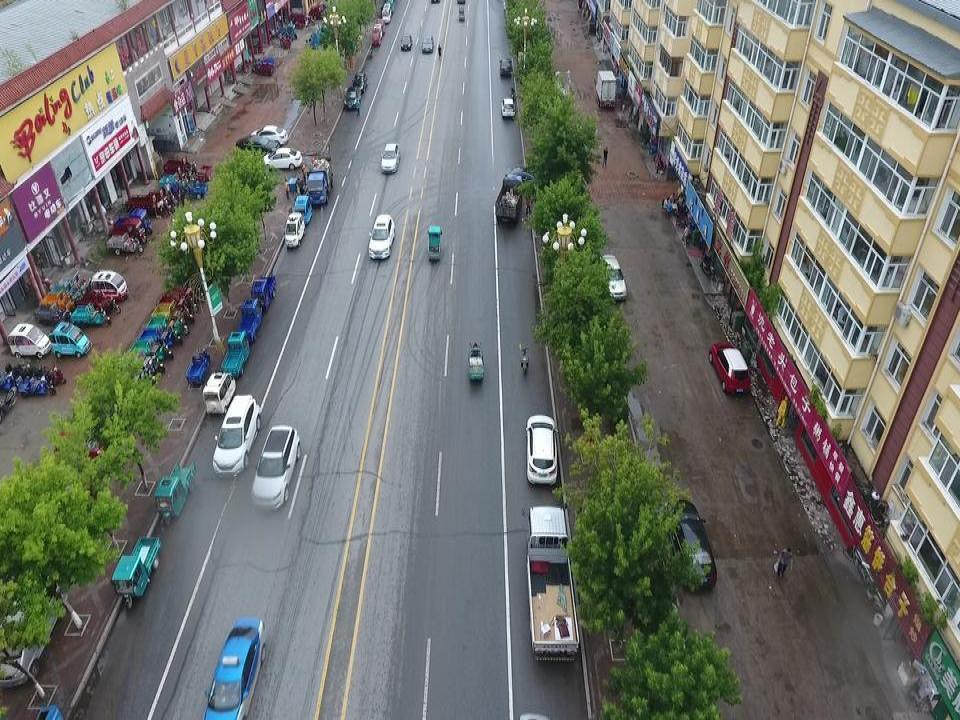car: (1, 552, 69, 687), (201, 613, 269, 719), (658, 494, 719, 598), (249, 420, 301, 513), (209, 391, 262, 480), (521, 410, 560, 487), (54, 420, 111, 467), (706, 339, 751, 397), (596, 252, 629, 305), (366, 211, 398, 261), (235, 134, 281, 162), (260, 146, 304, 173), (248, 124, 288, 148), (378, 139, 401, 176), (343, 85, 362, 111), (499, 95, 516, 120), (351, 71, 368, 93), (498, 56, 513, 77), (421, 33, 435, 55), (400, 32, 413, 51)
truck: (524, 503, 581, 660), (494, 171, 524, 225), (305, 155, 334, 204), (424, 223, 444, 264), (457, 5, 465, 22)
van: (593, 70, 619, 110)
